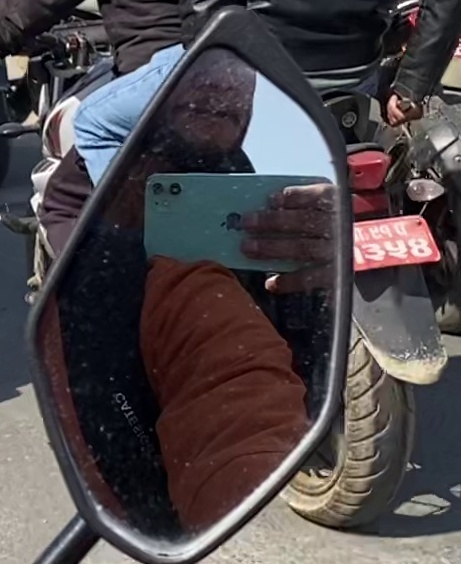license_plate: (352, 215, 440, 272)
